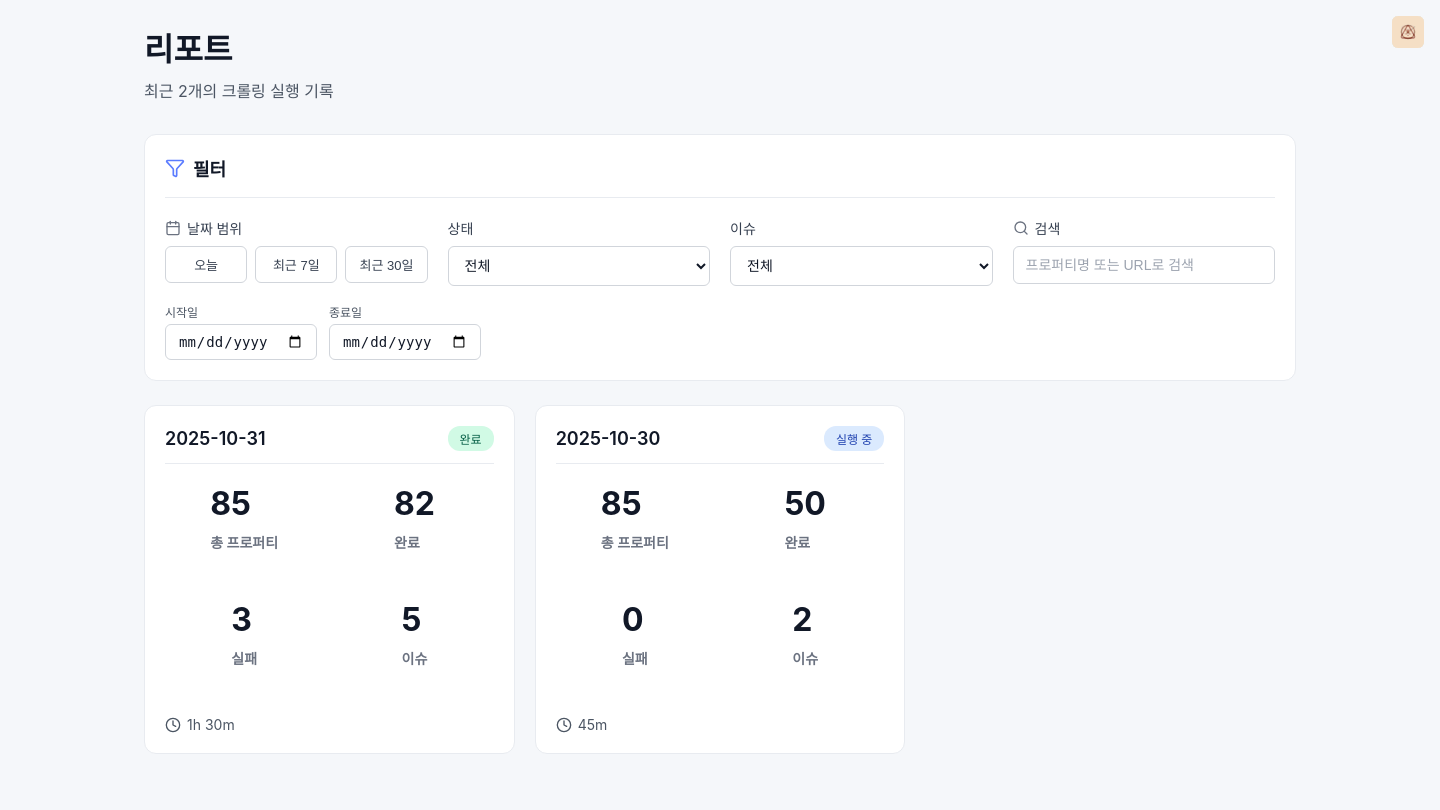
Test: Reports Page - Task 1 › Task 6: Save Results Functionality › should open save modal when save button is clicked
Expected: the heading "2025-10-31" is shown, [165,428,266,449]
Click the button "2025-10-31" at (329, 445), box [144,405,515,754]
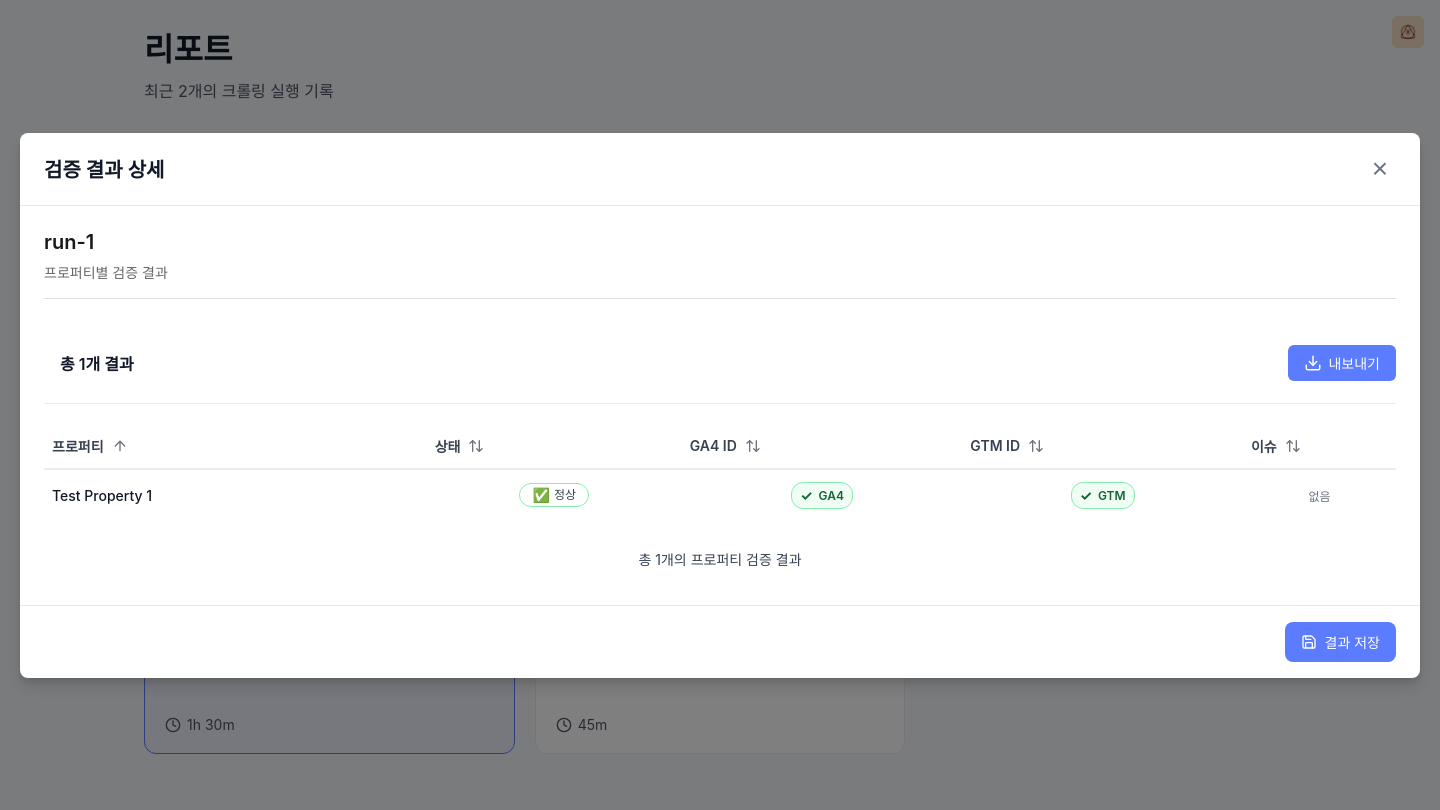
Expected: the button "결과 저장" is shown
// Click save button
Click the button "결과 저장" at (1340, 642), box [1285,622,1396,662]
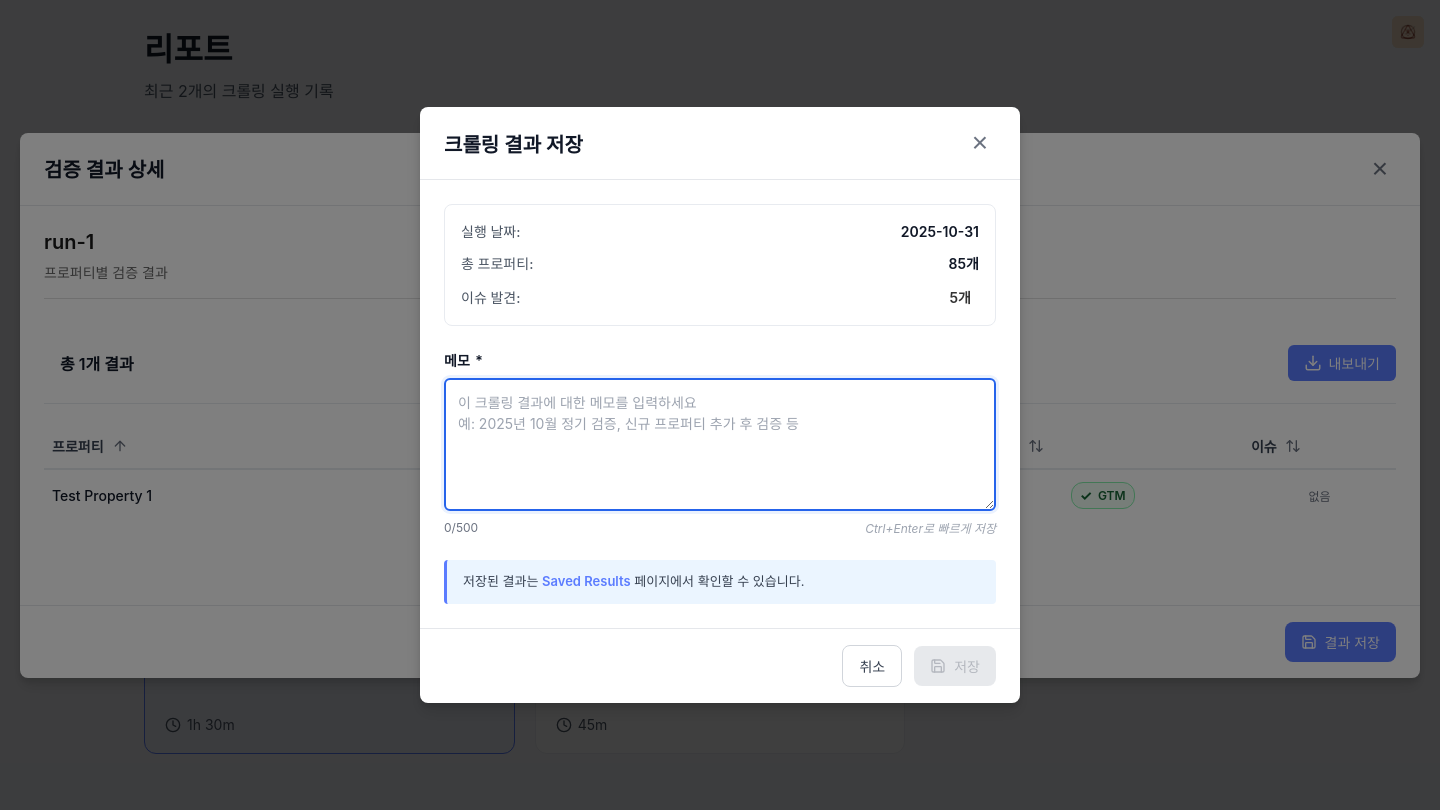
Expected: the heading "크롤링 결과 저장" is shown, [444,129,583,158]
